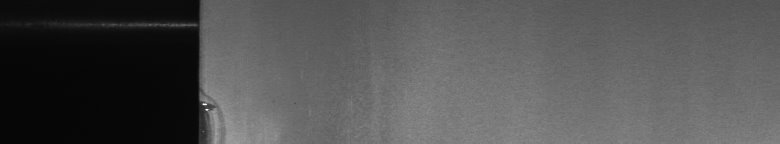hb: (208, 92, 229, 136)
